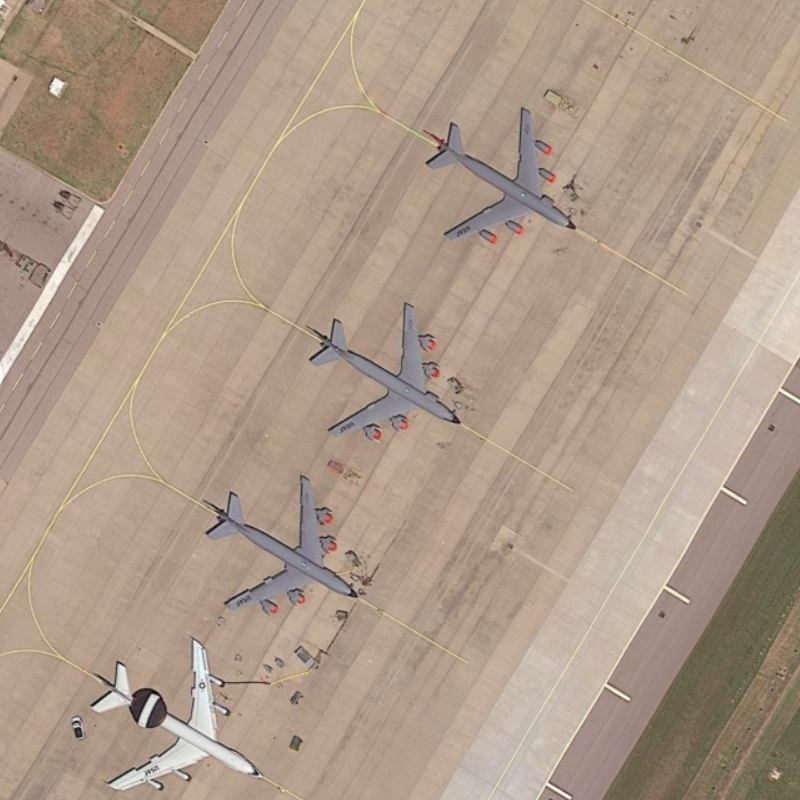A14: (193, 467, 376, 623), (299, 297, 469, 450), (418, 98, 587, 251)
A7: (86, 626, 271, 800)
